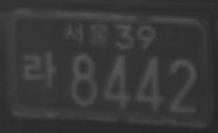2: (168, 55, 199, 116)
3: (111, 22, 136, 52)
4: (134, 53, 167, 113), (102, 52, 132, 111)
8: (68, 51, 99, 107)
9: (136, 22, 158, 52)
라: (22, 48, 58, 88)
서울_O: (61, 21, 111, 50)
